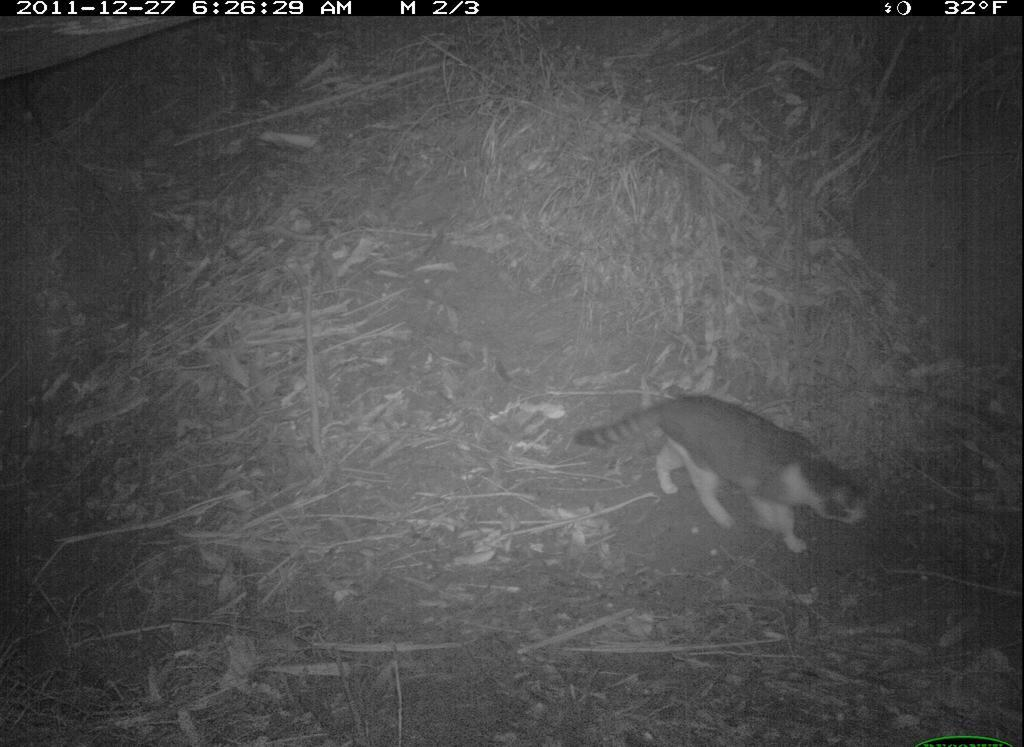cat: (566, 385, 881, 568)
